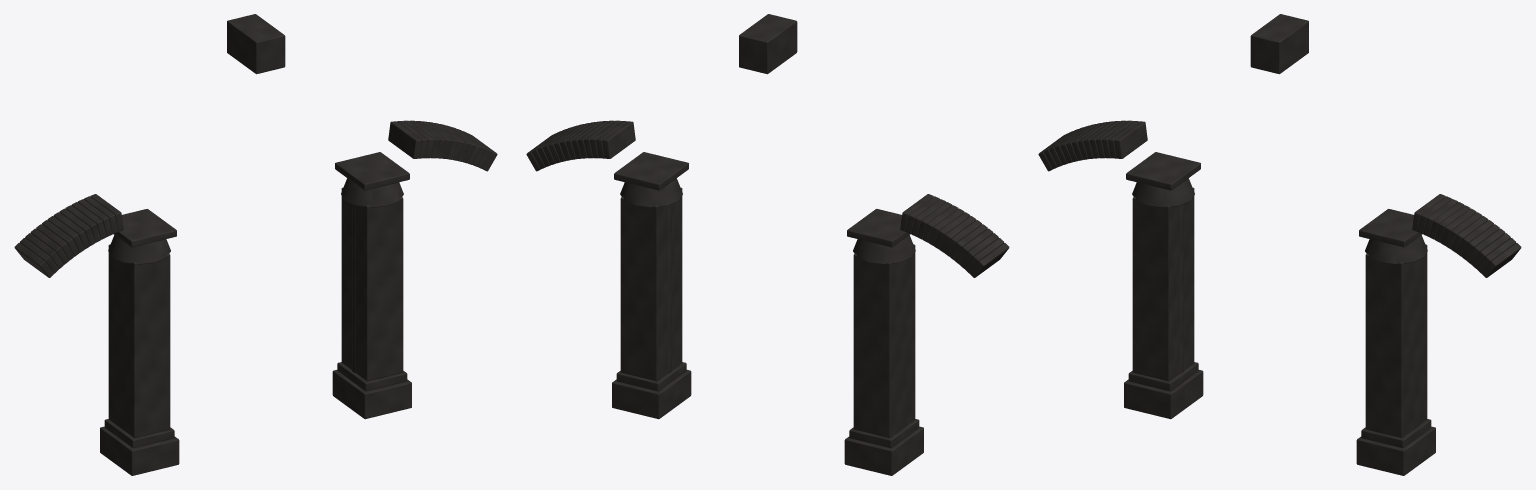
The model's file is GothicArch_Lancet.glb.
The picture shows the model from 3 angles, left to right: view 1: azimuth 30°, elevation 25°; view 2: azimuth 150°, elevation 25°; view 3: azimuth 330°, elevation 25°; orthographic projection.
Visible parts, largest first — view 1: GothicArch_Lancet_LOD0; view 2: GothicArch_Lancet_LOD0; view 3: GothicArch_Lancet_LOD0.
Part boxes in pixels (left/top/right/bottom): GothicArch_Lancet_LOD0: left=14, top=14, right=497, bottom=475; GothicArch_Lancet_LOD0: left=526, top=14, right=1009, bottom=475; GothicArch_Lancet_LOD0: left=1038, top=14, right=1521, bottom=475.
Bounding box in the file's own units: 5.61 × 4.71 × 0.6874.
1 material, 1 textured.
